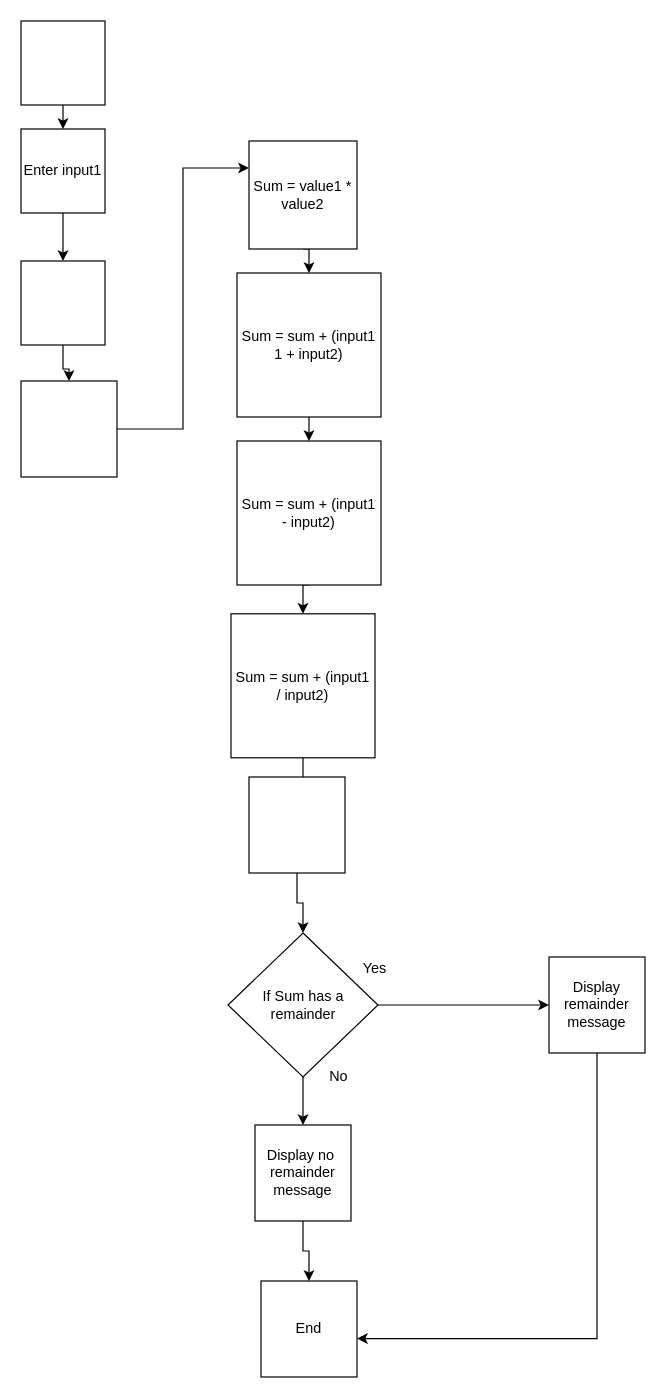
Image size: 666x1398. Some labels were removed from this diagram. The shapes that lost their labels are listed below. From the top down, each one's box as (x1, y1, x2, y2) in pixels, then its label:
(20, 20, 105, 105): Start
(20, 260, 105, 345): Enter input2
(20, 380, 117, 477): Sum = 0
(248, 776, 345, 873): Display Sum
